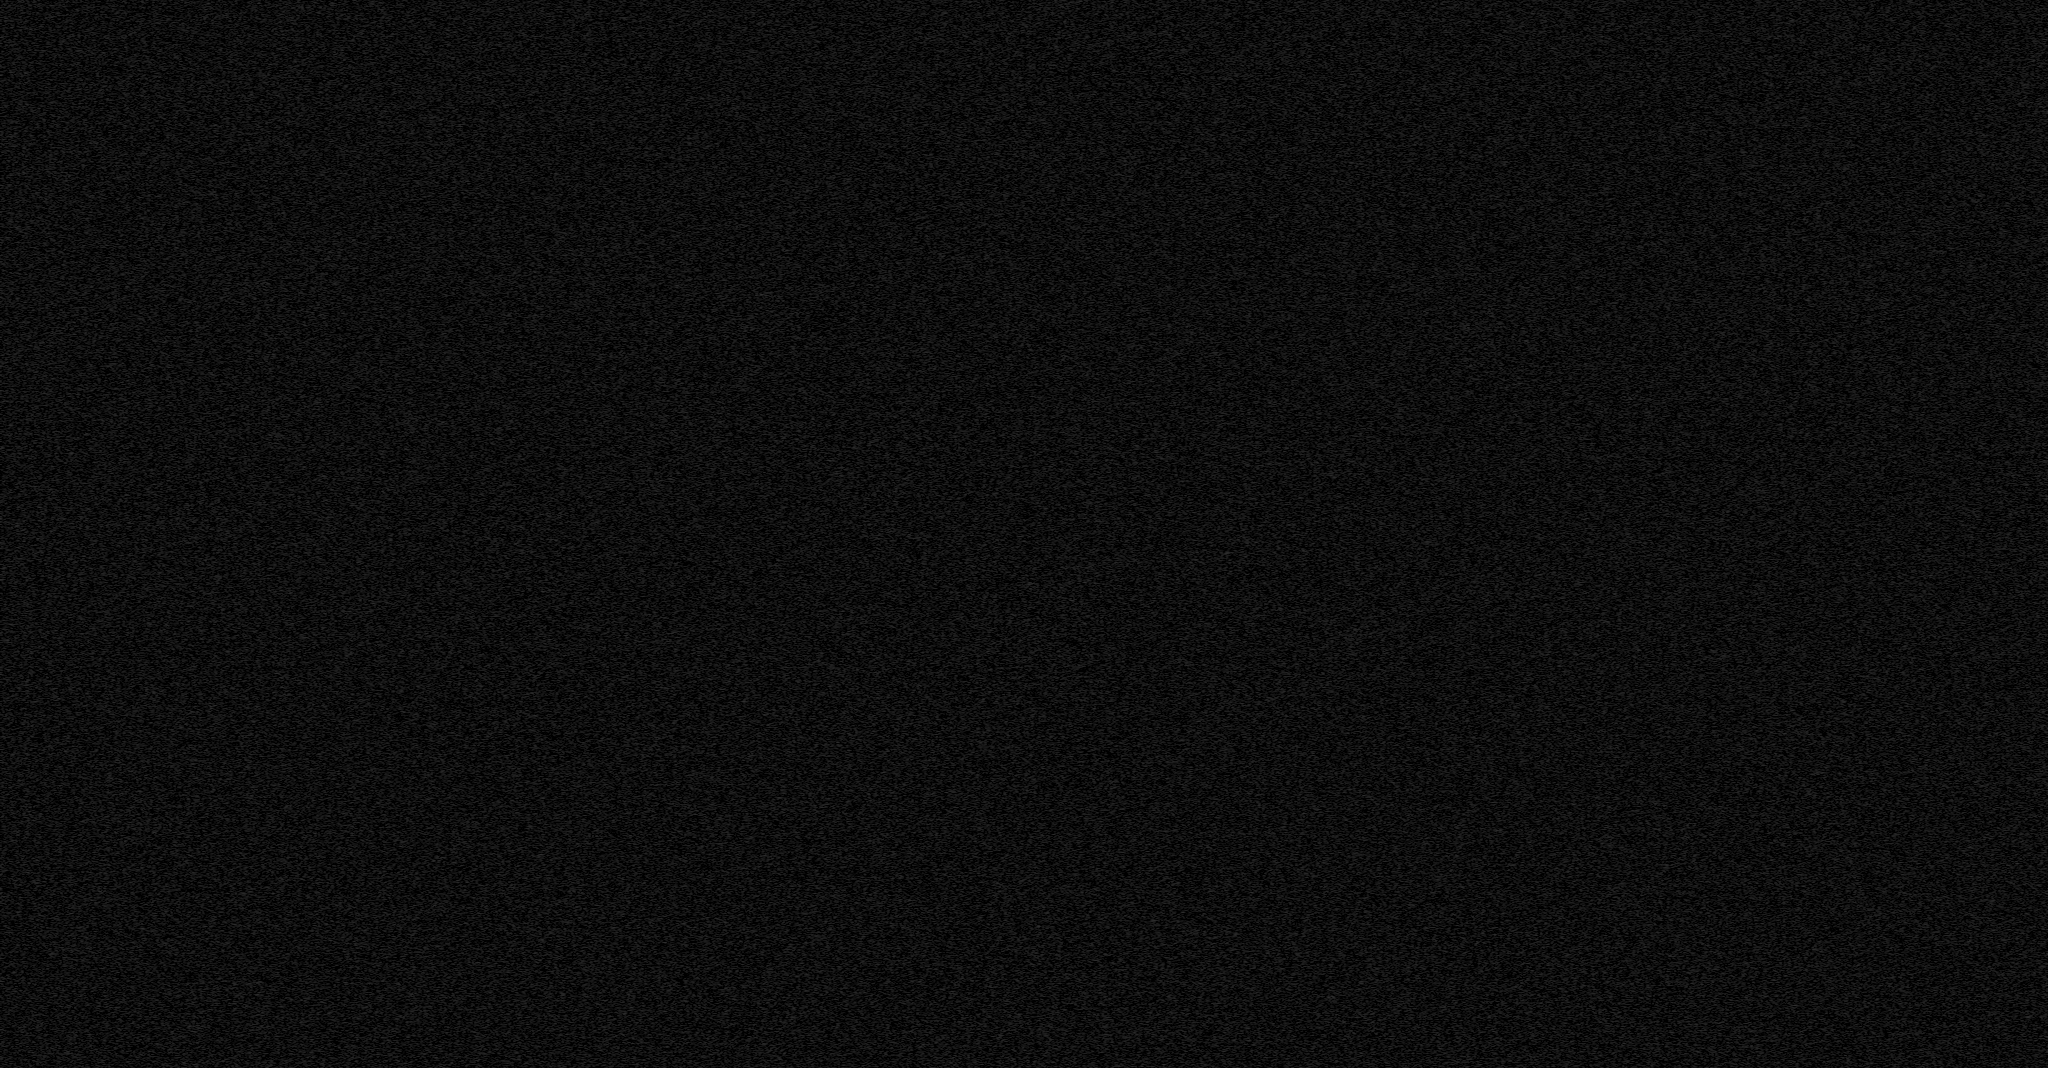wv_dvbt_8kfft: (928, 0, 1827, 1068)
wv_usb: (1850, 98, 1856, 190), (1850, 1002, 1856, 1067), (1850, 689, 1856, 754), (1850, 432, 1856, 497), (1850, 218, 1856, 274), (1850, 884, 1856, 938), (1852, 504, 1856, 550), (1850, 966, 1856, 996), (1852, 820, 1856, 857), (1850, 939, 1856, 965), (1850, 191, 1856, 217), (1850, 398, 1856, 423), (1850, 797, 1856, 819), (1852, 552, 1856, 579), (1850, 60, 1856, 80), (1850, 754, 1856, 773), (1850, 81, 1856, 98), (1850, 779, 1856, 796), (1852, 613, 1856, 629), (1850, 374, 1856, 386), (1852, 867, 1856, 884), (1852, 333, 1856, 348), (1852, 350, 1856, 363), (1852, 275, 1856, 289), (1850, 388, 1856, 397), (1852, 665, 1856, 678), (1852, 600, 1856, 613), (1852, 587, 1856, 599), (1852, 310, 1856, 323), (1852, 290, 1856, 302), (1852, 653, 1856, 664), (1850, 424, 1856, 432), (1852, 857, 1856, 866), (1852, 43, 1854, 53), (1852, 645, 1856, 651), (1852, 630, 1856, 636), (1852, 580, 1856, 586), (1852, 37, 1854, 43), (1852, 998, 1856, 1002), (1852, 637, 1856, 641), (1852, 304, 1856, 308), (1852, 24, 1856, 28), (1852, 365, 1854, 370), (1852, 30, 1854, 35), (1852, 19, 1854, 24), (1852, 775, 1856, 778), (1852, 684, 1854, 689), (1852, 680, 1856, 683), (1852, 499, 1854, 503), (1852, 327, 1856, 329), (1852, 11, 1854, 15), (1852, 5, 1854, 9)
wv_wbfm: (563, 0, 591, 1067)
